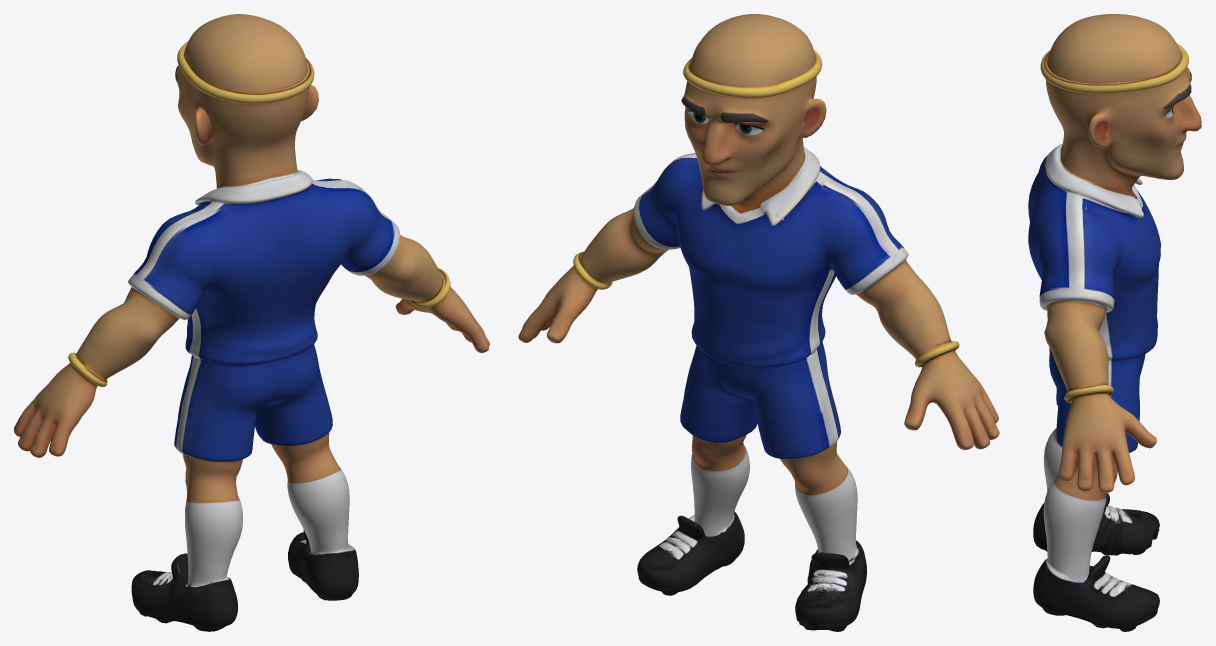
File: ruleta.glb
3 renders of one model, left to right at view 1: azimuth 30°, elevation 25°; view 2: azimuth 150°, elevation 25°; view 3: azimuth 270°, elevation 25°, orthographic. The views are drawn at different scales.
Parts seen in each view (by area): view 1: char; view 2: char; view 3: char.
Part boxes in pixels (left/top/right/bottom): char: left=14, top=14, right=489, bottom=631; char: left=518, top=14, right=999, bottom=631; char: left=1028, top=14, right=1201, bottom=631.
Size of the model in its own units: 1.42 by 1.7 by 0.472.
Materials: 1 (1 with a texture image).
